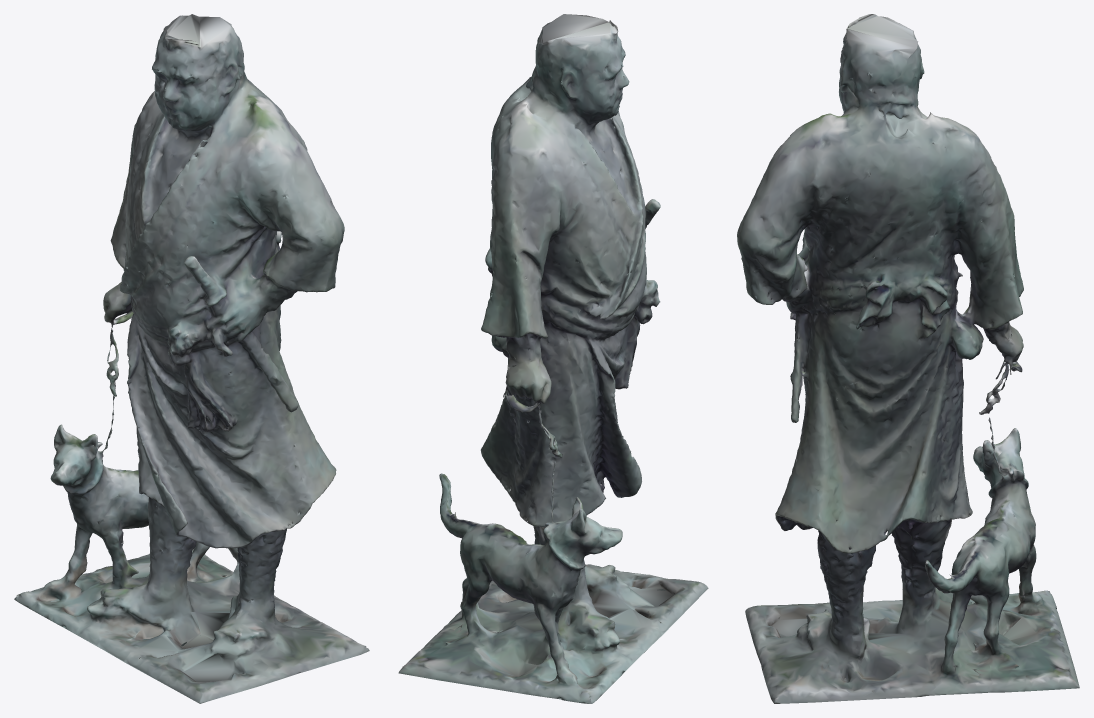
Rendered from preview.glb.
3 views of the same model, side by side, from view 1: azimuth 30°, elevation 25°; view 2: azimuth 150°, elevation 25°; view 3: azimuth 270°, elevation 25° (orthographic). The views are drawn at different scales.
Visible parts, largest first — view 1: Object_2; view 2: Object_2; view 3: Object_2.
Part boxes in pixels (left/top/right/bottom): Object_2: left=14, top=14, right=369, bottom=703; Object_2: left=398, top=14, right=708, bottom=703; Object_2: left=737, top=14, right=1079, bottom=703.
Bounding box in the file's own units: 373 × 1000 × 504.
